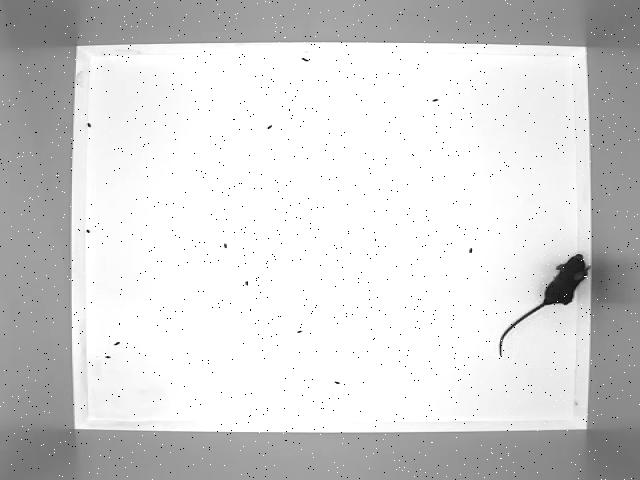Tikus: (496, 250, 590, 359)
